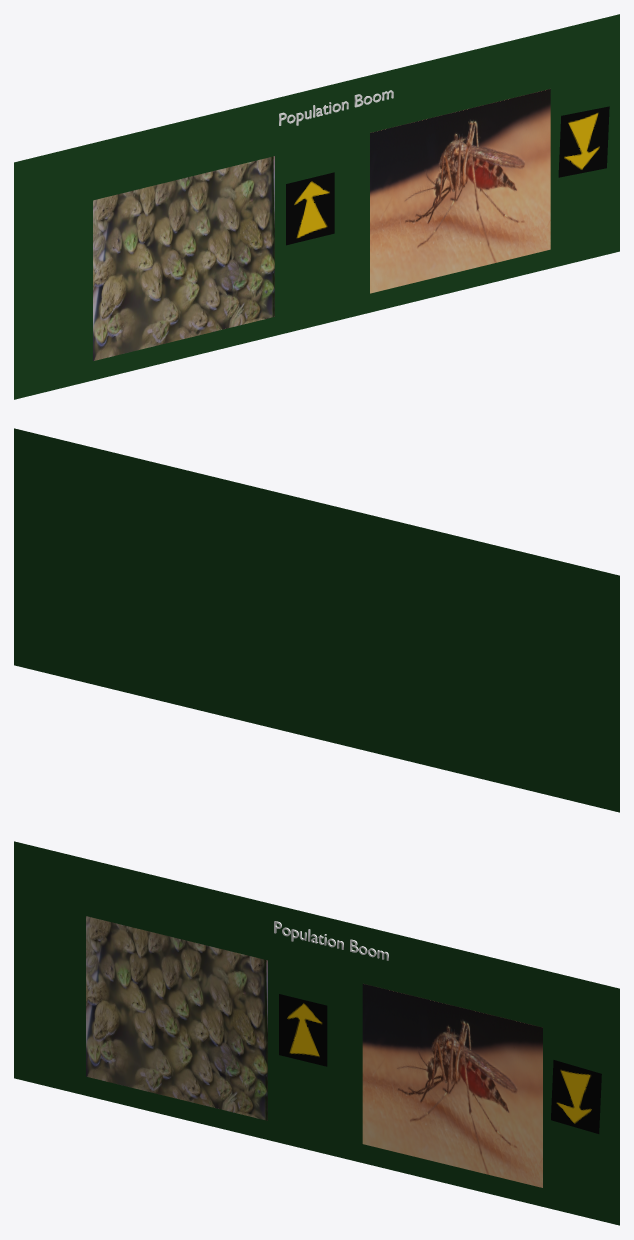
Rendered from cons1.gltf.
The picture shows the model from 3 angles, top to bottom: view 1: azimuth 30°, elevation 25°; view 2: azimuth 150°, elevation 25°; view 3: azimuth 330°, elevation 25°; orthographic projection.
Visible parts, largest first — view 1: Plane.013, Plane, Plane.002, Plane.003, Plane.001, Text.008; view 2: Plane.013; view 3: Plane.013, Plane, Plane.002, Plane.003, Plane.001, Text.008.
Part boxes in pixels (x1,y1,x2,y2): Plane.013: (14,14,619,399); Plane: (93,156,274,360); Plane.002: (370,89,550,293); Plane.003: (558,106,609,177); Plane.001: (286,172,334,245); Text.008: (279,90,393,125); Plane.013: (14,428,619,812); Plane.013: (14,841,619,1225); Plane: (86,916,267,1120); Plane.002: (362,983,542,1187); Plane.003: (551,1060,601,1133); Plane.001: (279,994,327,1066); Text.008: (274,921,388,960).
Bounding box in the file's own units: 15.94 × 5.96 × 0.1767.
6 materials, 4 textured.
